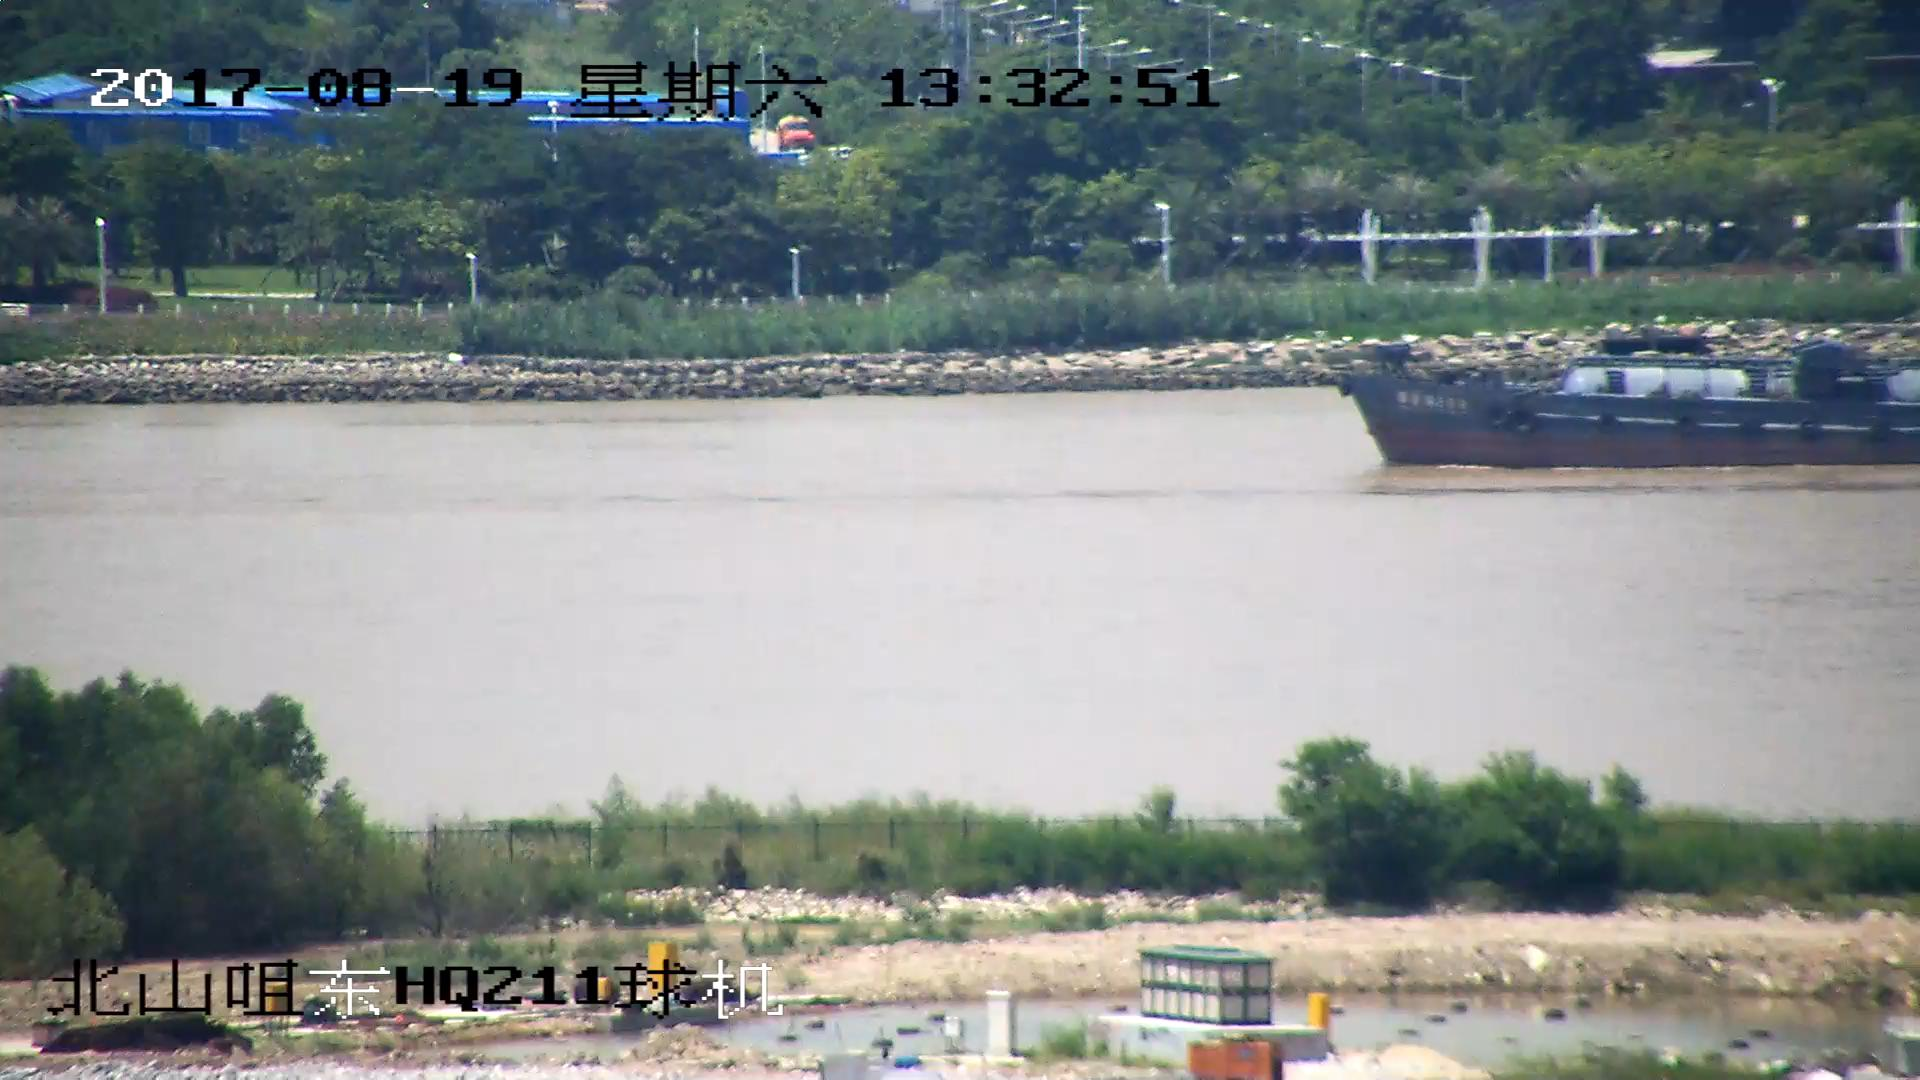bulk cargo carrier: (1331, 347, 1920, 470)
